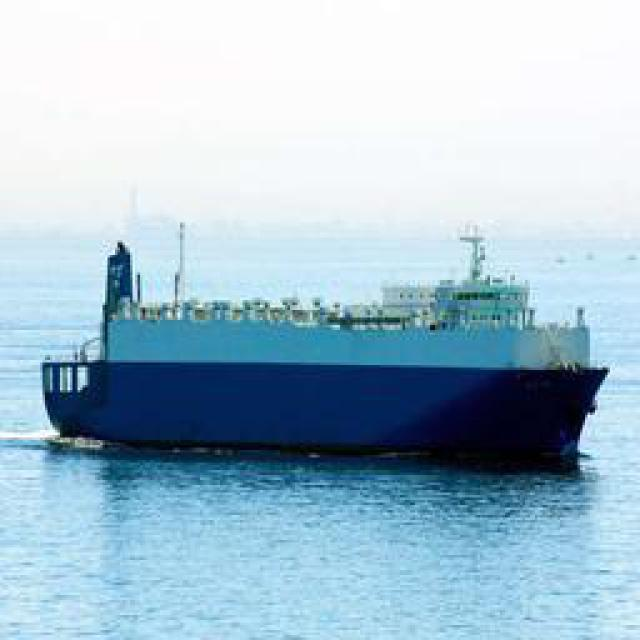Ship: (50, 229, 613, 459)
